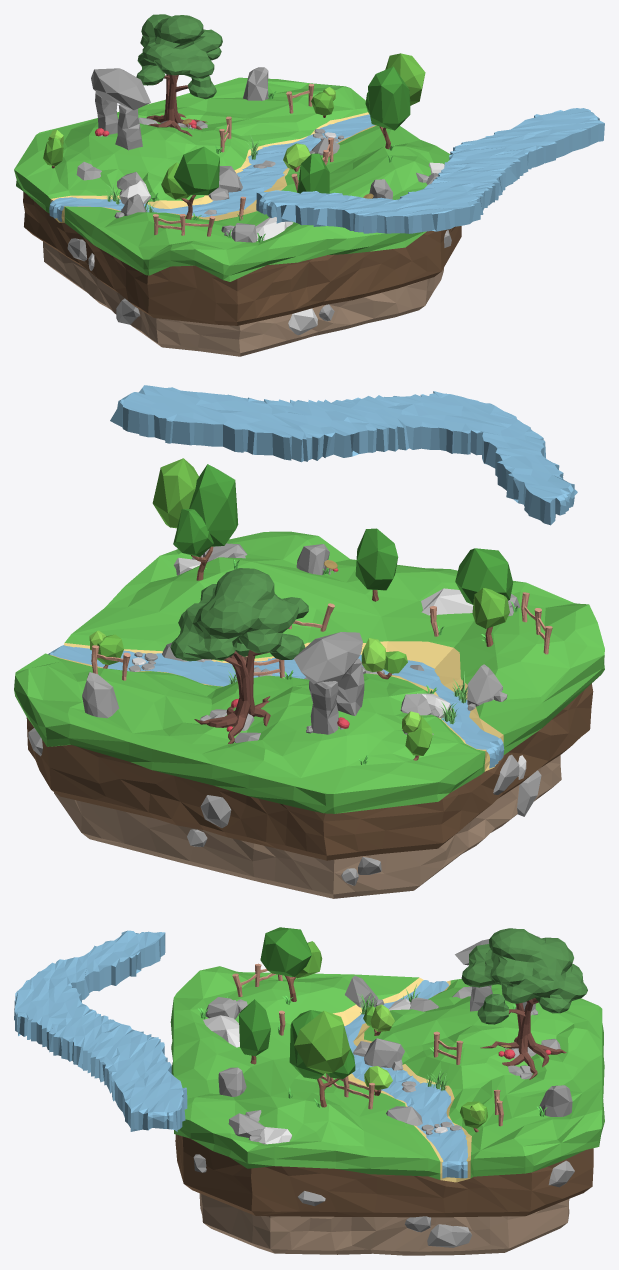
File: dereModel.fbx
3 renders of one model, top to bottom at view 1: azimuth 30°, elevation 25°; view 2: azimuth 150°, elevation 25°; view 3: azimuth 270°, elevation 25°, orthographic. The views are drawn at different scales.
Visible parts, largest first — view 1: Plane.001, Cube.002, Plane.002, Cube.003, Mball.016, Plane.003, Cube, Cube.030, Cube.035, Icosphere.019, Icosphere.012, Cube.041 (+6 smaller); view 2: Plane.001, Plane.002, Cube.002, Cube.003, Mball.016, Cube.030, Plane.003, Cube, Cube.035, Icosphere.019, Icosphere.012, Cube.031 (+7 smaller); view 3: Plane.001, Cube.002, Plane.002, Cube.003, Mball.016, Plane.003, Cube.030, Cube.035, Icosphere.019, Cube.008, Icosphere.000, Icosphere.012 (+13 smaller).
Boxes of the visible parts, bbox=[...] form: Plane.001: bbox=[14, 77, 450, 281]; Cube.002: bbox=[23, 191, 461, 325]; Plane.002: bbox=[256, 108, 604, 233]; Cube.003: bbox=[43, 241, 443, 356]; Mball.016: bbox=[136, 14, 222, 136]; Plane.003: bbox=[49, 114, 374, 221]; Cube: bbox=[91, 68, 150, 150]; Cube.030: bbox=[365, 53, 425, 149]; Cube.035: bbox=[161, 146, 219, 219]; Icosphere.019: bbox=[297, 153, 329, 193]; Icosphere.012: bbox=[243, 67, 268, 100]; Cube.041: bbox=[43, 130, 63, 168]; Plane.001: bbox=[14, 531, 604, 813]; Plane.002: bbox=[110, 385, 577, 525]; Cube.002: bbox=[26, 683, 593, 860]; Cube.003: bbox=[54, 755, 561, 898]; Mball.016: bbox=[170, 568, 308, 743]; Cube.030: bbox=[152, 458, 238, 580]; Plane.003: bbox=[48, 645, 504, 768]; Cube: bbox=[293, 632, 364, 734]; Cube.035: bbox=[455, 548, 513, 646]; Icosphere.019: bbox=[355, 528, 398, 601]; Icosphere.012: bbox=[82, 672, 119, 718]; Cube.031: bbox=[361, 638, 407, 679]; Plane.001: bbox=[170, 966, 604, 1182]; Cube.002: bbox=[175, 1134, 593, 1217]; Plane.002: bbox=[14, 930, 187, 1131]; Cube.003: bbox=[199, 1193, 569, 1255]; Mball.016: bbox=[461, 928, 587, 1079]; Plane.003: bbox=[344, 980, 467, 1178]; Cube.030: bbox=[289, 1010, 355, 1107]; Cube.035: bbox=[260, 927, 322, 1001]; Icosphere.019: bbox=[238, 999, 270, 1064]; Cube.008: bbox=[364, 1038, 404, 1067]; Icosphere.000: bbox=[427, 1224, 471, 1247]; Icosphere.012: bbox=[539, 1085, 572, 1116].
Size of the model in its own units: 2019 by 997 by 2206.
